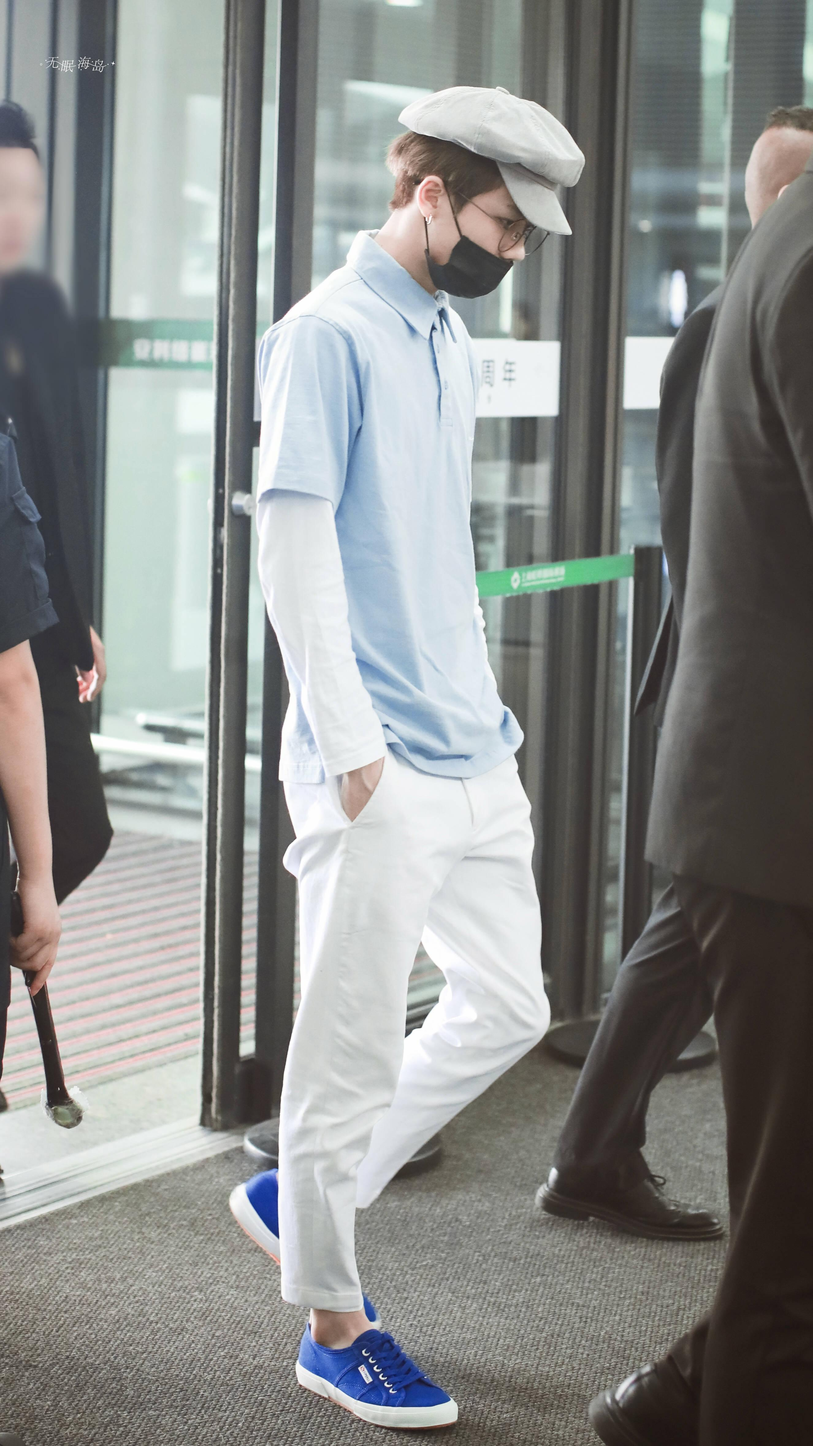NONE: (0, 160, 51, 276)
WRONG: (447, 188, 529, 299)
